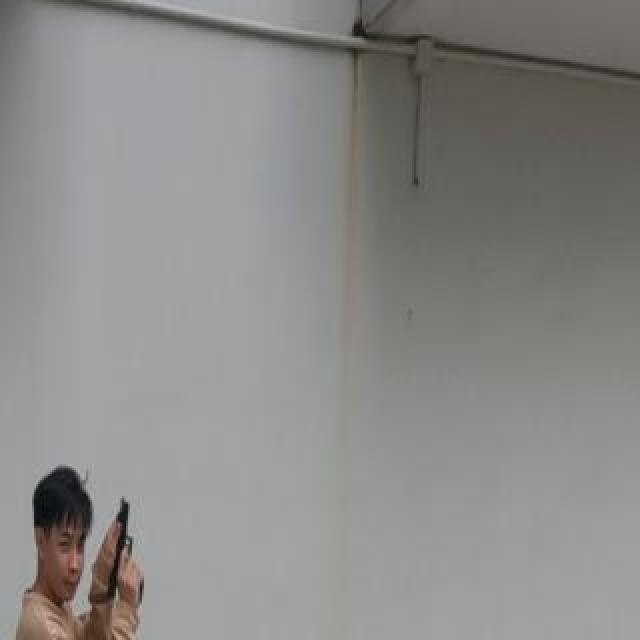Guns: (94, 489, 155, 622)
